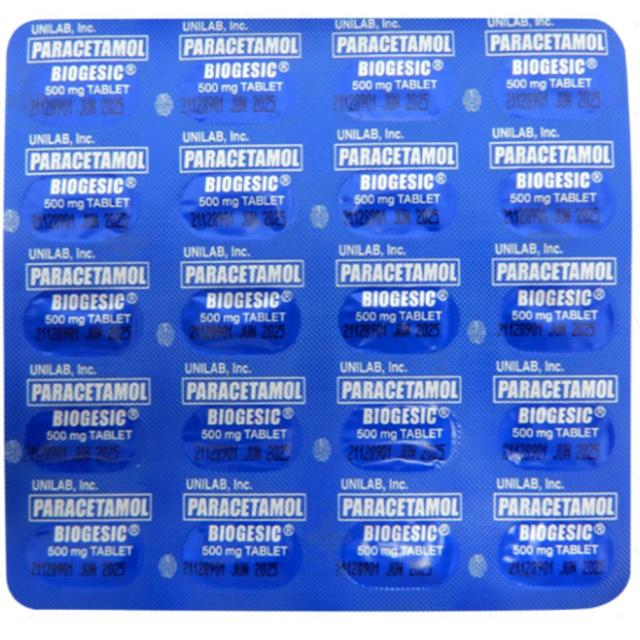blister: (1, 18, 634, 612)
